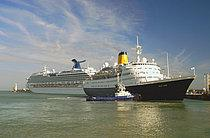Ship: (78, 34, 198, 104), (25, 61, 102, 99)
